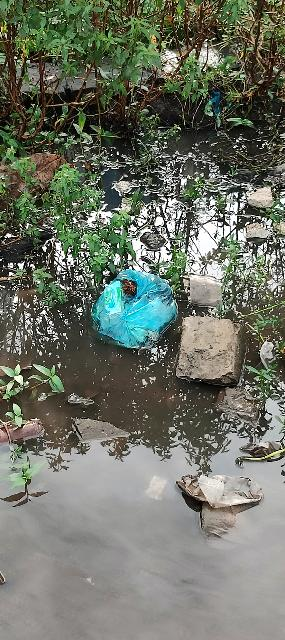polythene: (97, 261, 179, 347)
